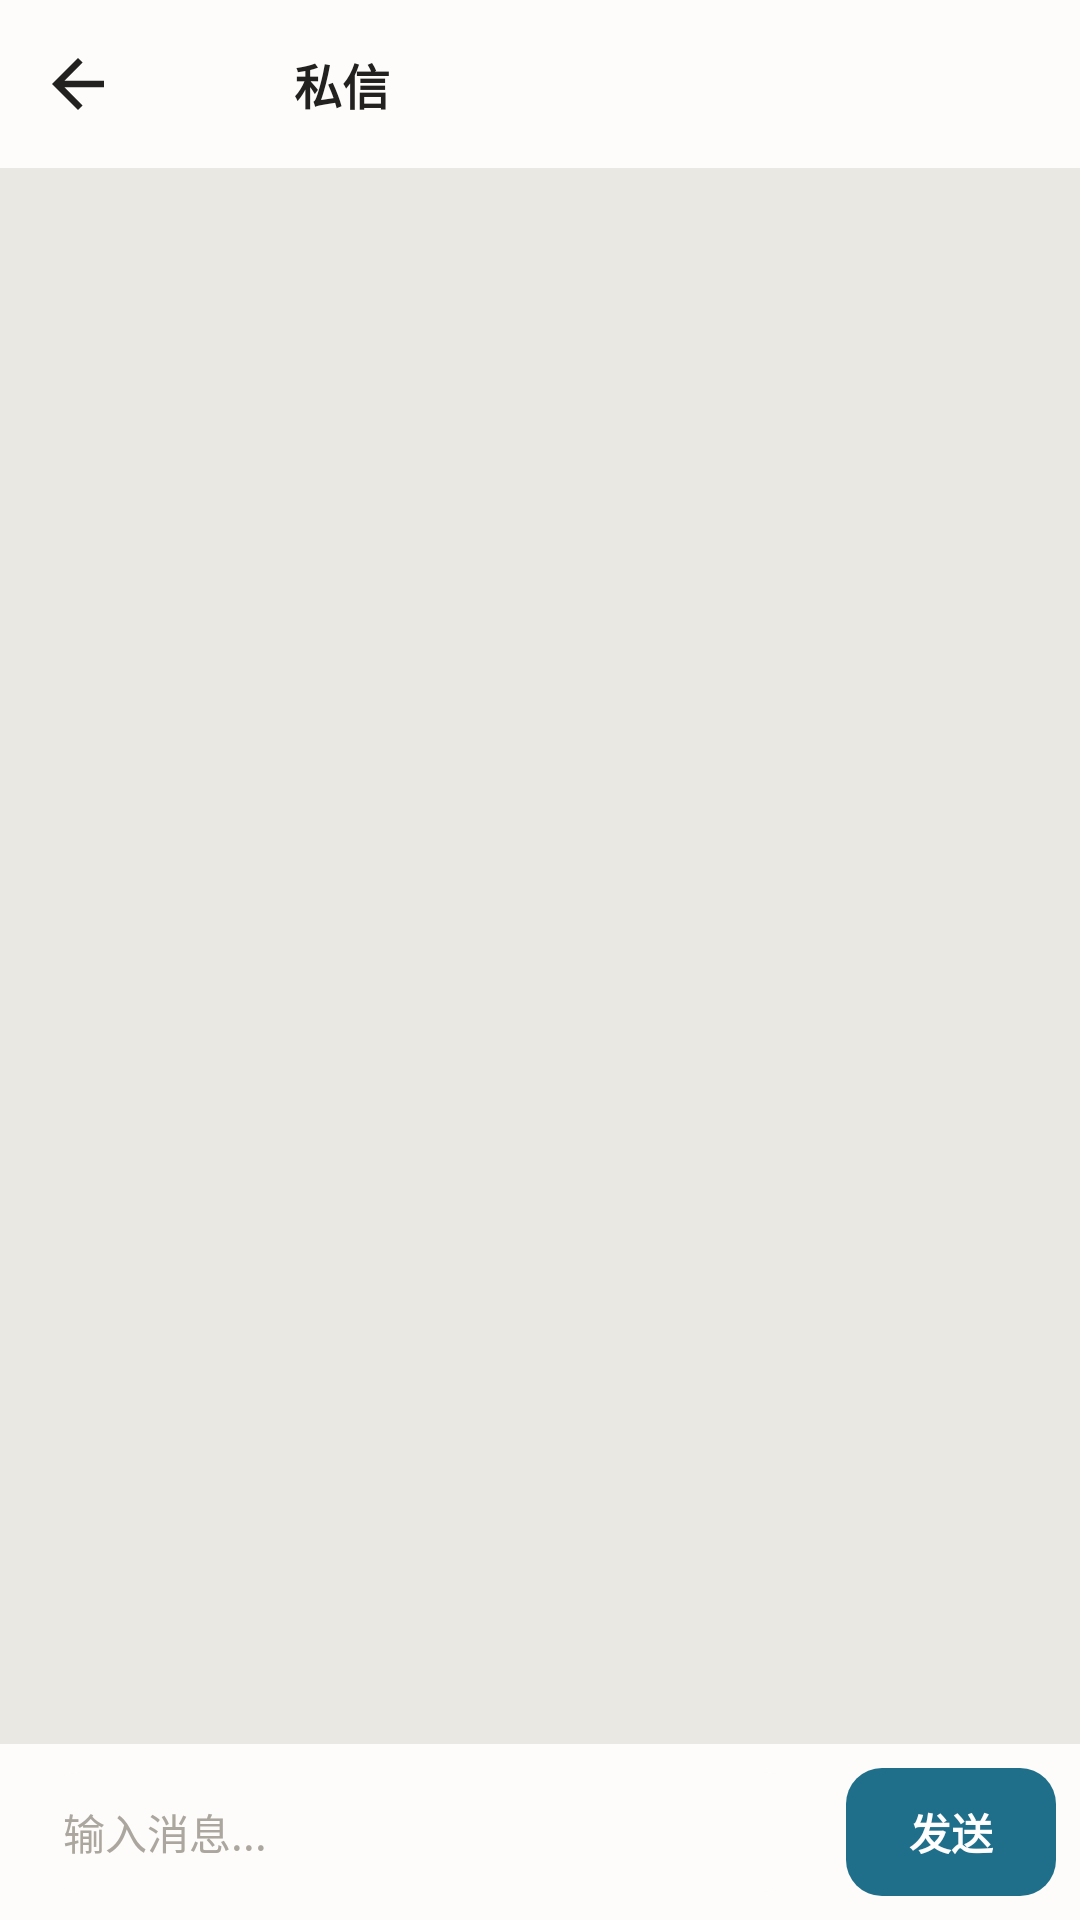

Named icons in this screenshot (1080×1920) and their centers, (x=x, y=y):
back: (x=78, y=84)
